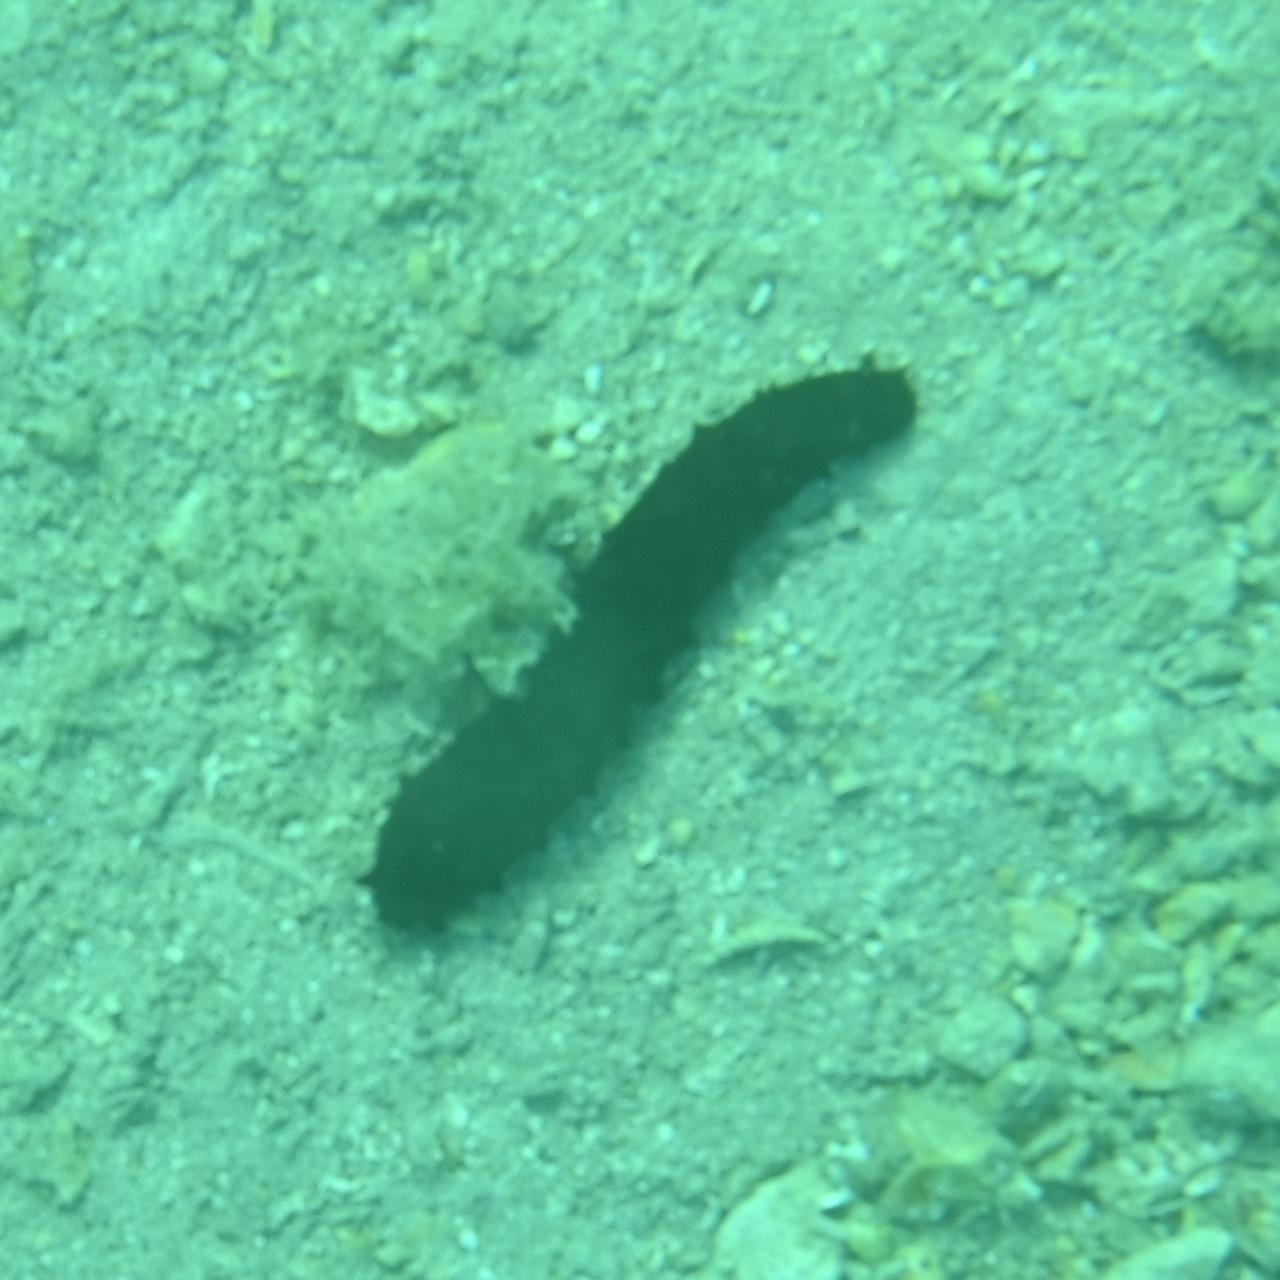Holothuria tubulosa: (338, 328, 942, 952)
